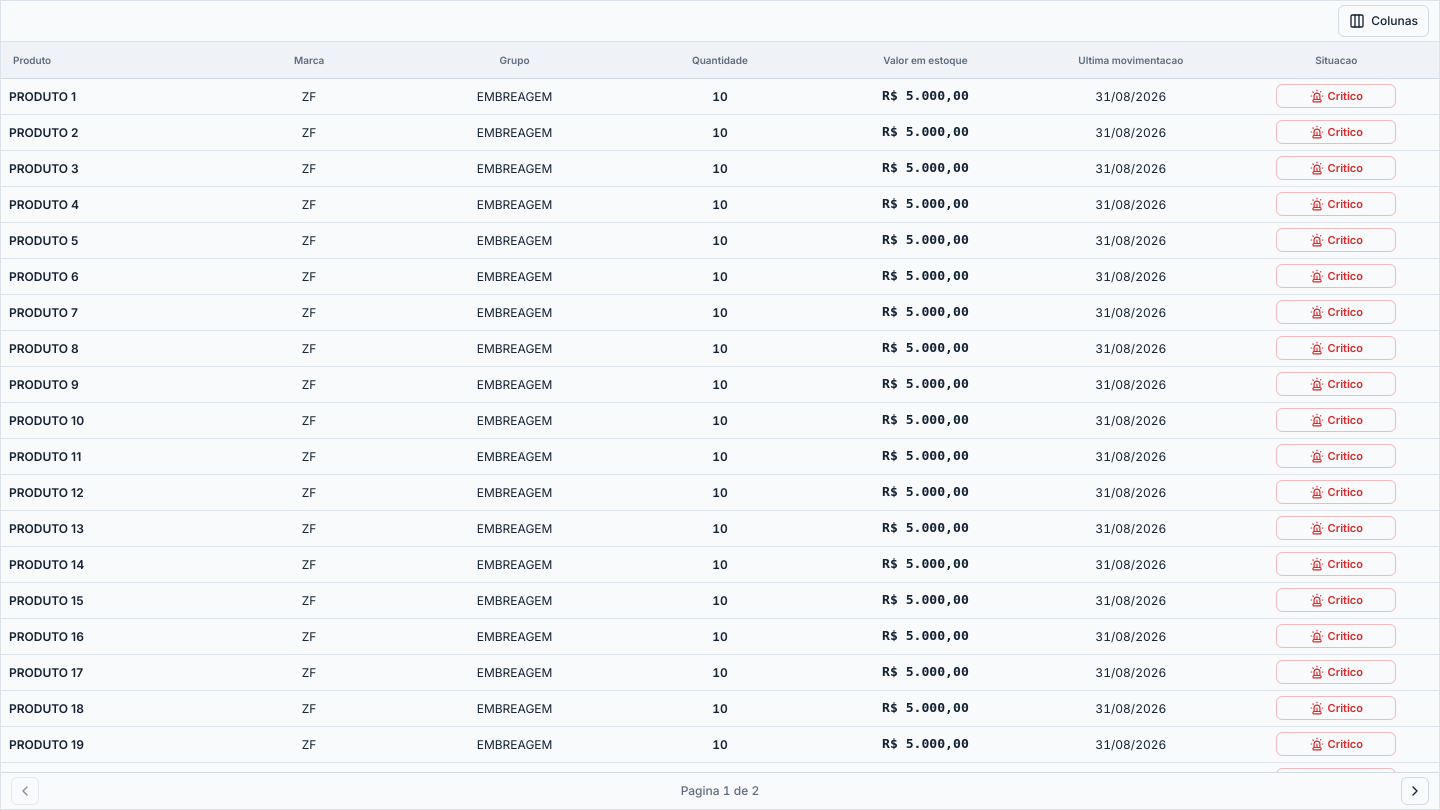
Test: EstoqueProductsTable › pagina grandes volumes sem reduzir o total disponivel
This screenshot has width=1440, height=810.
Expected: the text "Pagina 1 de 2" is shown, [681,783,759,799]
Click the button named "Proxima pagina".
click(1415, 791)  # box [1401,777,1429,805]
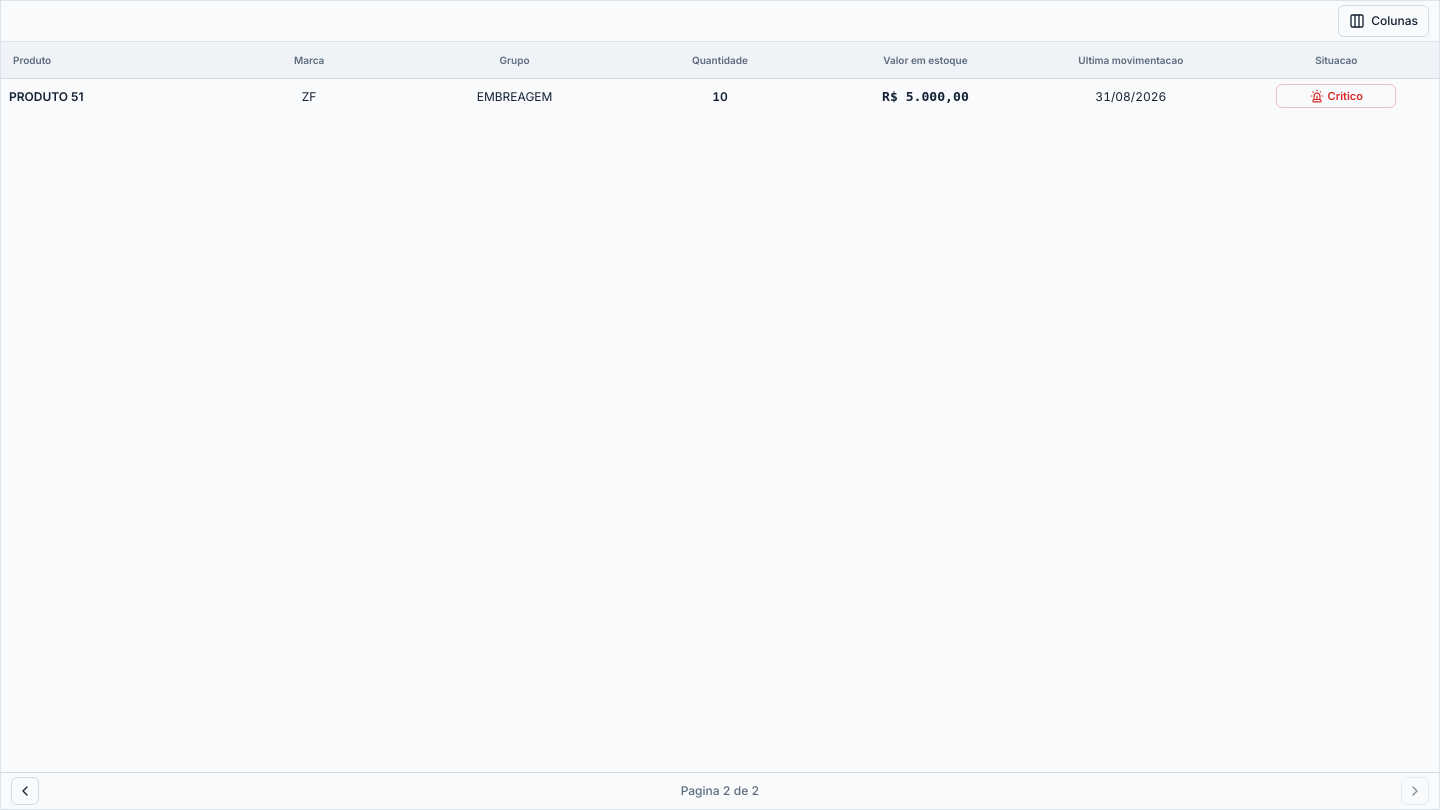
Expected: the number of rows is 2, [1,42,1439,78]; [1,78,1439,114]
Expected: the text "Pagina 2 de 2" is shown, [681,783,759,799]
Expected: the number of buttons named "Abrir PRODUTO 51" is 2
